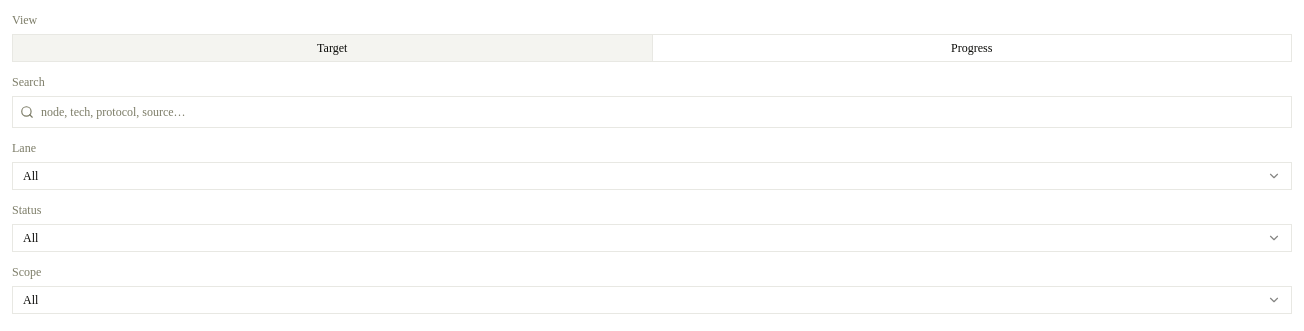
SectionFilters — lane / status / scope selects › the lane dropdown lists every lane from the data plus All
Click the dropdown named "Lane".
click(31, 176)  # box [12,162,1292,190]
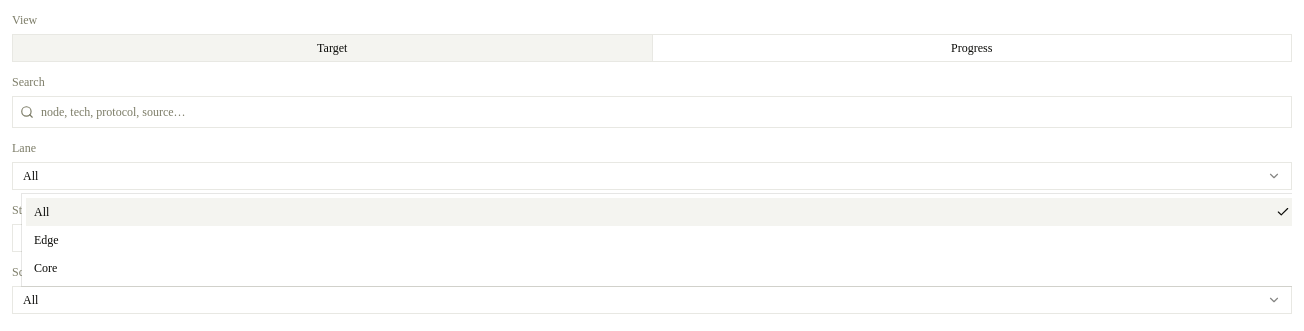
Result: the option "Edge" is shown at [34,233,59,247]
Result: the option "Core" is shown at [34,261,57,275]
